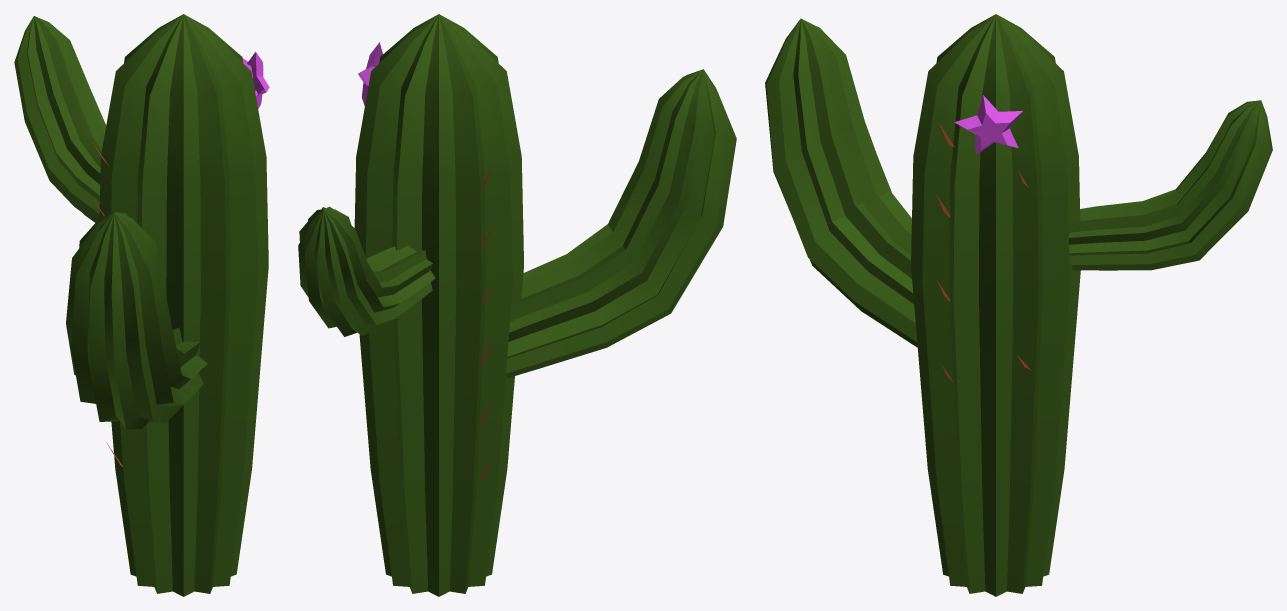
File: cactus_big.glb
3 renders of one model, left to right at view 1: azimuth 30°, elevation 25°; view 2: azimuth 150°, elevation 25°; view 3: azimuth 270°, elevation 25°, orthographic.
Parts seen in each view (by area): view 1: cactus; view 2: cactus; view 3: cactus.
Part boxes in pixels (x1,y1,x2,y2): cactus: [14, 14, 269, 596]; cactus: [298, 14, 736, 596]; cactus: [765, 14, 1272, 596].
Size of the model in its own units: 4.24 by 8.29 by 6.81.
1 material, 1 textured.
